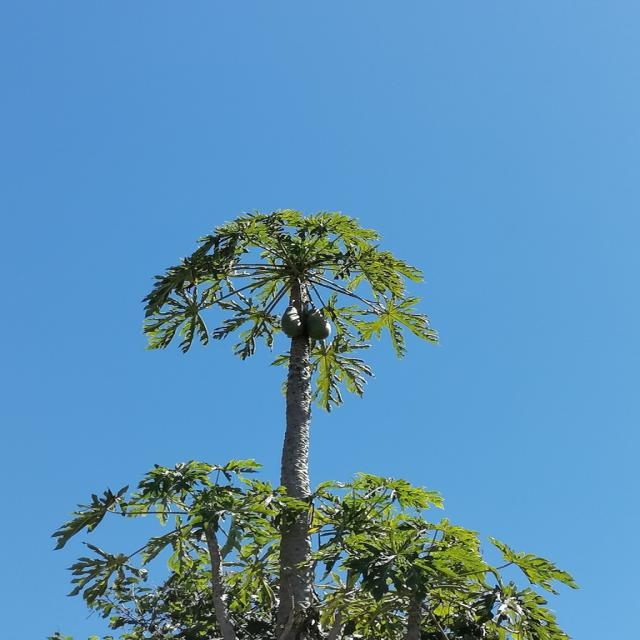Papaya-Tree: (90, 190, 504, 481)
